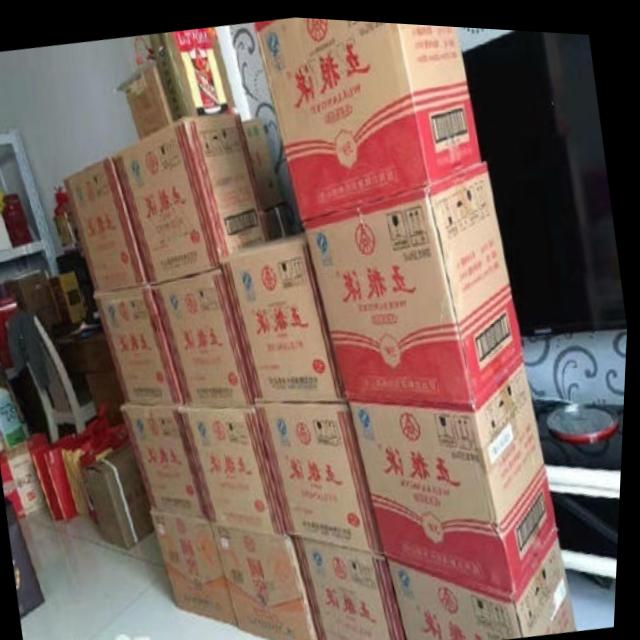box: (304, 155, 527, 405), (352, 354, 563, 595), (253, 14, 482, 218), (112, 112, 270, 282), (220, 229, 348, 401), (393, 529, 583, 640), (256, 401, 388, 546), (184, 399, 290, 530), (154, 268, 256, 402), (215, 519, 323, 640), (296, 532, 412, 640), (66, 152, 149, 289), (124, 396, 210, 516), (97, 284, 184, 402), (156, 513, 242, 624), (87, 440, 158, 548), (65, 420, 112, 514), (2, 433, 51, 520), (35, 433, 80, 518), (241, 113, 282, 205), (82, 441, 124, 465)
